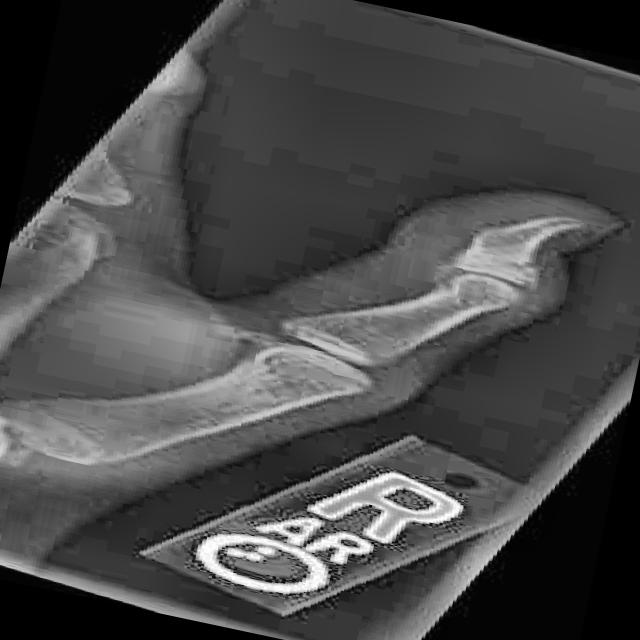fingers positive: (443, 236, 572, 299)
